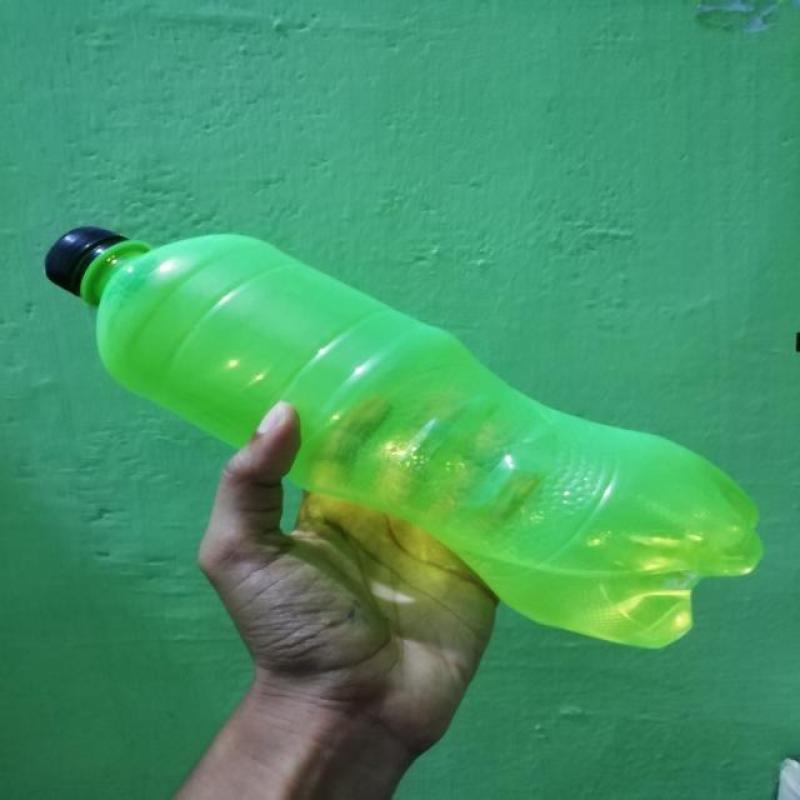botella: (44, 225, 765, 650)
